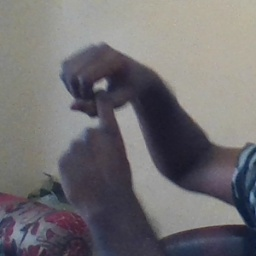Q: (46, 39, 145, 195)
